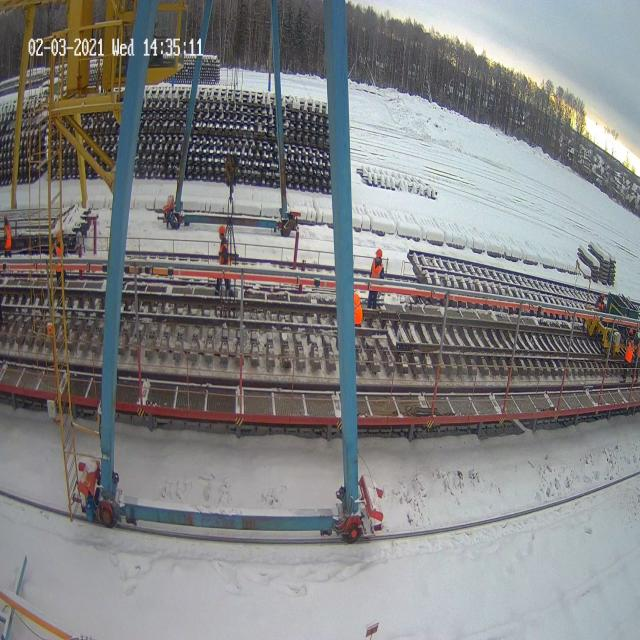Helmet: (218, 225, 226, 234), (375, 248, 382, 258)
Person: (214, 225, 235, 297), (367, 248, 384, 309), (628, 329, 638, 378), (356, 284, 365, 328), (3, 214, 12, 258), (596, 289, 605, 312)
